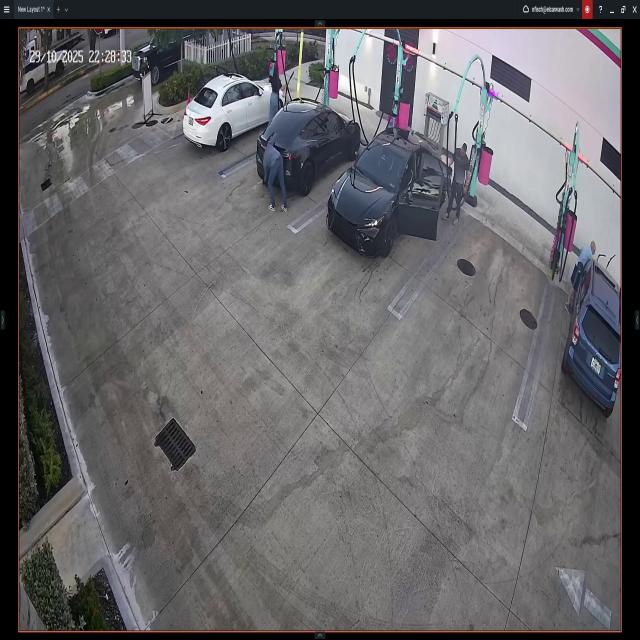Car: (328, 138, 446, 264), (256, 101, 361, 190), (564, 263, 619, 422), (182, 74, 284, 148), (134, 30, 185, 83)
